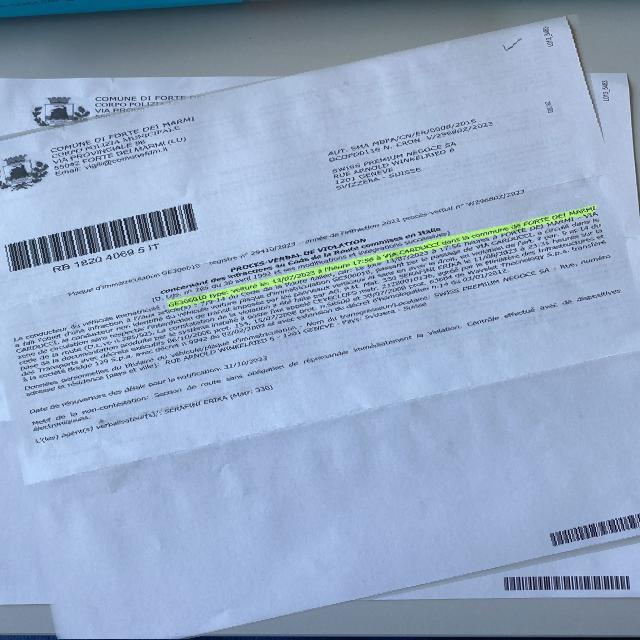paper-document-: (0, 16, 640, 640)
